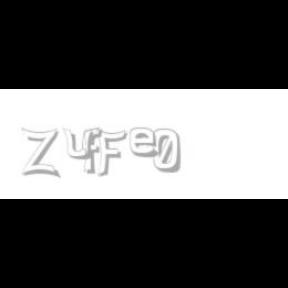0: (153, 128, 184, 174)
F: (95, 128, 127, 178)
Z: (22, 128, 58, 178)
e: (130, 128, 162, 158)
f: (82, 128, 106, 174)
u: (62, 128, 98, 160)
